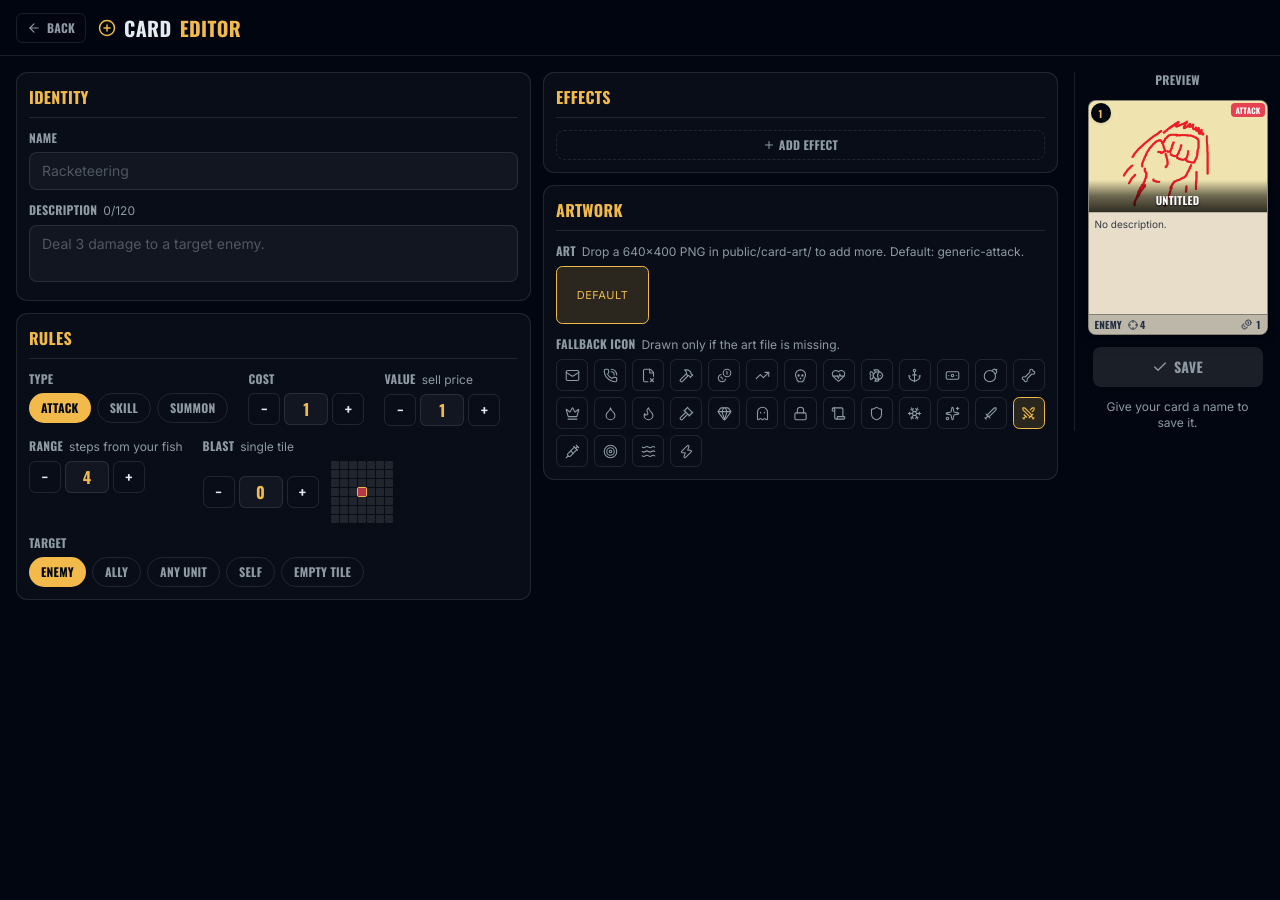
CardCreateScreen › summon effects › New opens the summon designer and selects what it saves
Click the button "Add Effect": (800, 145) [556,130,1045,160]
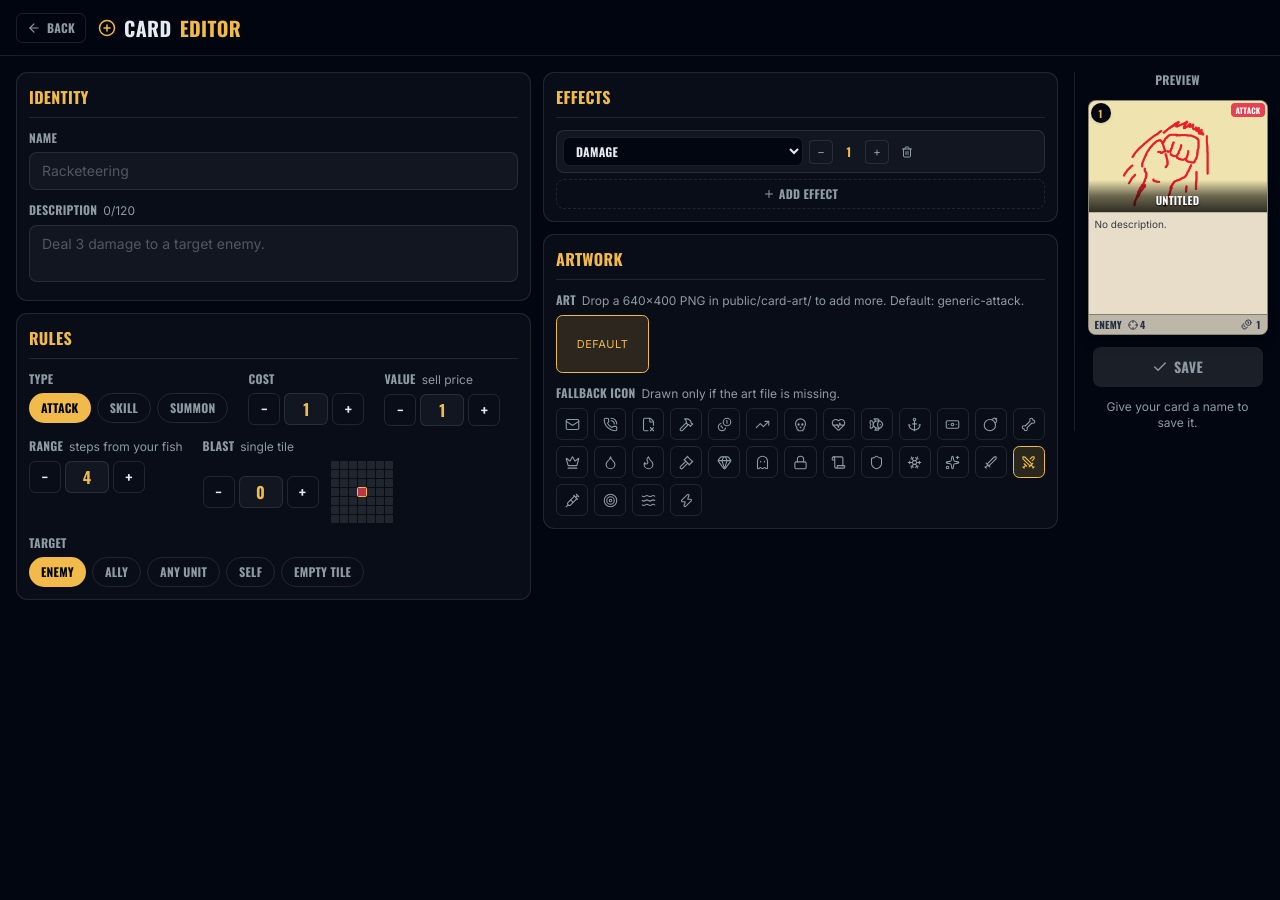
Select "Summon" in the dropdown named "effect 1 kind": (683, 152) [563,137,803,166]
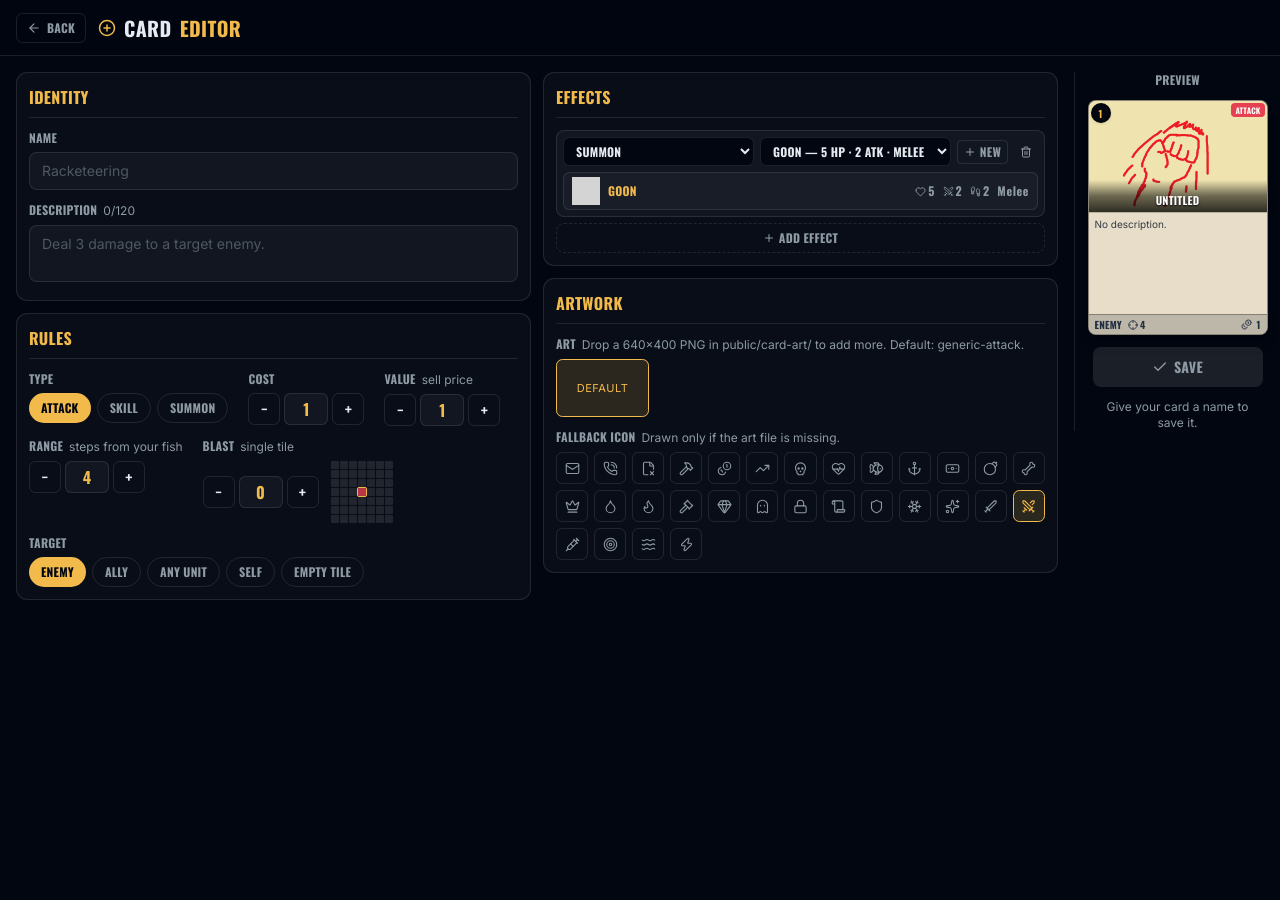
Click the button with aria-label "effect 1 new summon": (982, 152) [957,140,1008,164]
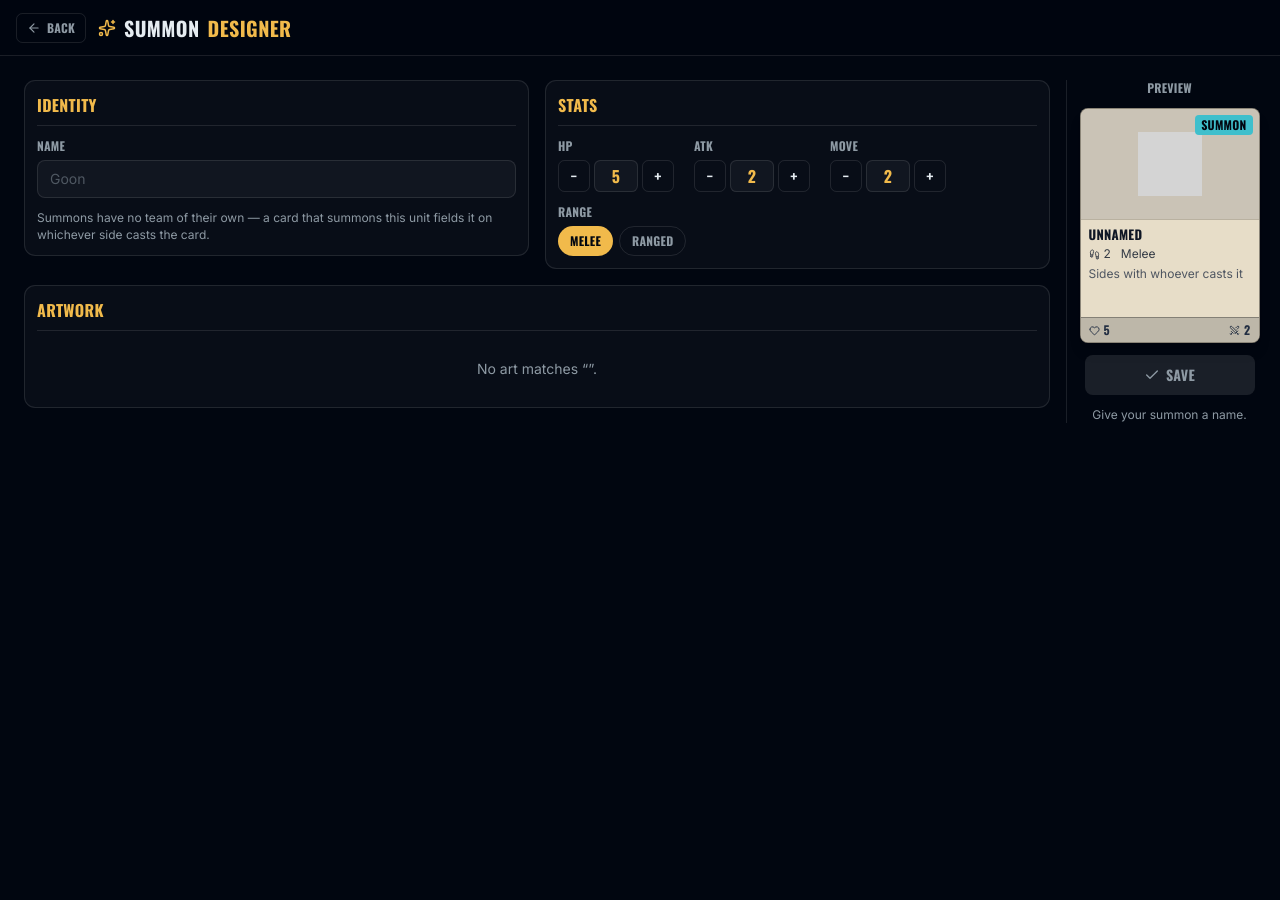
In the field with placeholder "Goon": (276, 179) [37,160,516,198], type "Eel"
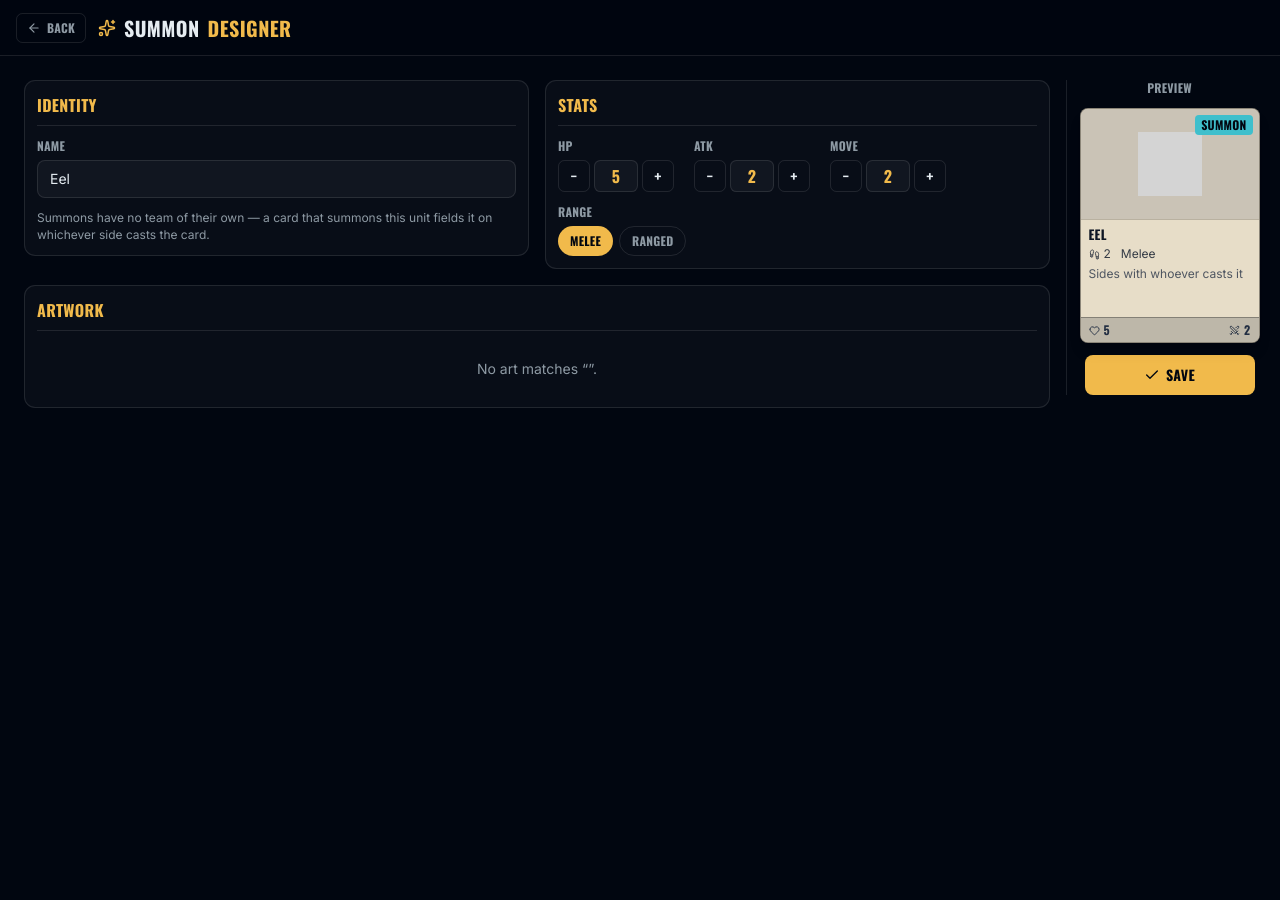
Click the button "Save": (1170, 375) [1084,355,1254,395]
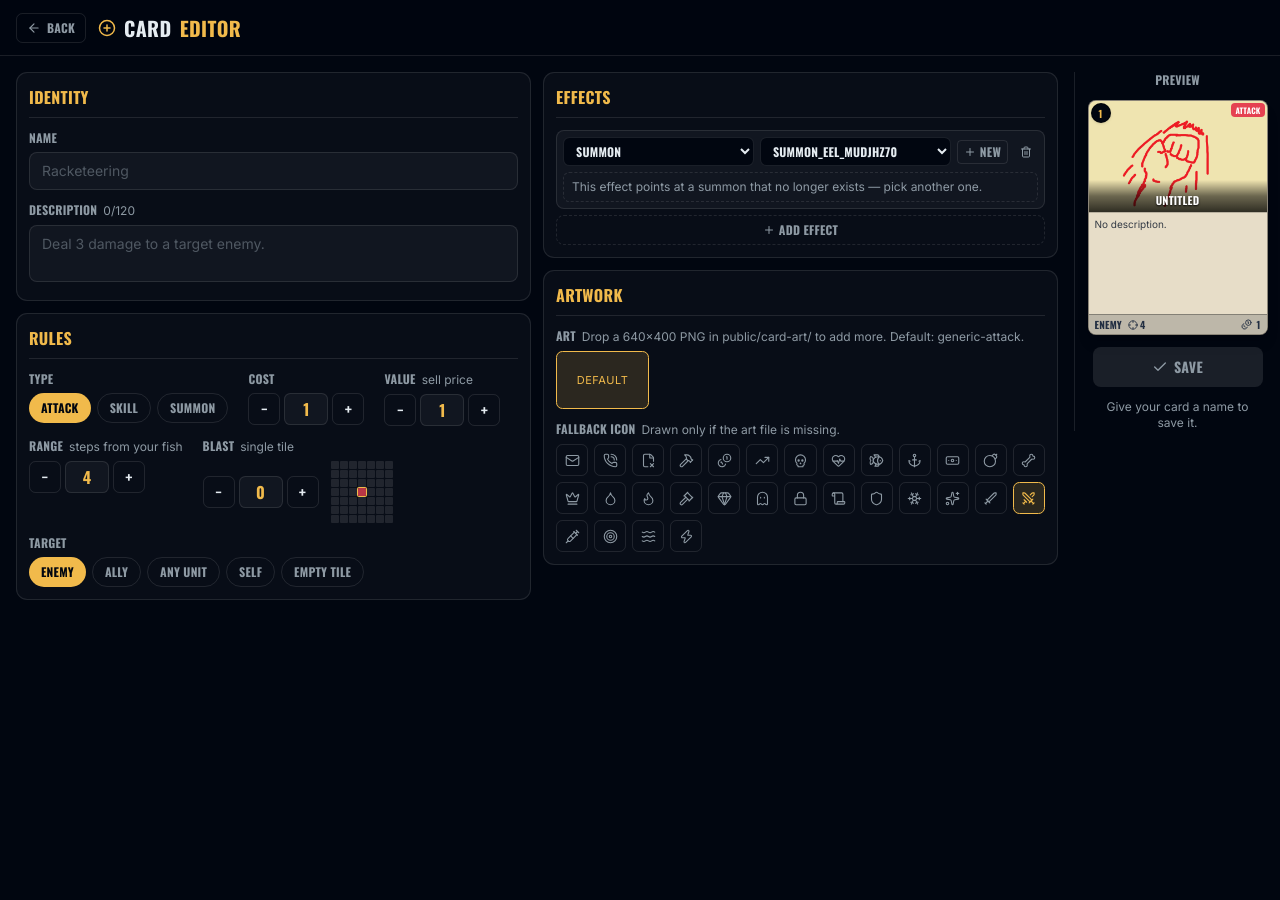
Expected: the dialog is gone
